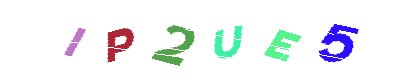2: (135, 0, 215, 80)
5: (298, 0, 378, 80)
E: (216, 0, 296, 80)
I: (78, 0, 158, 80)
P: (94, 0, 174, 80)
U: (157, 0, 237, 80)
